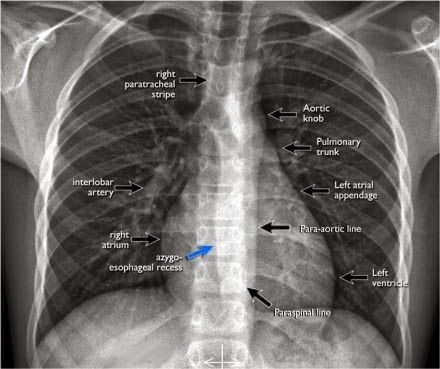telestration: (123, 68, 177, 99), (106, 252, 184, 273), (315, 135, 360, 158), (333, 179, 380, 200), (297, 222, 363, 236), (69, 178, 115, 198), (370, 267, 411, 288), (301, 102, 331, 122), (245, 285, 272, 307), (272, 307, 331, 317), (98, 231, 130, 249), (182, 244, 213, 262), (265, 106, 297, 123), (281, 139, 313, 156), (259, 219, 294, 234), (176, 71, 208, 87), (298, 183, 332, 198), (130, 231, 162, 246), (111, 180, 145, 194), (338, 270, 369, 284)
